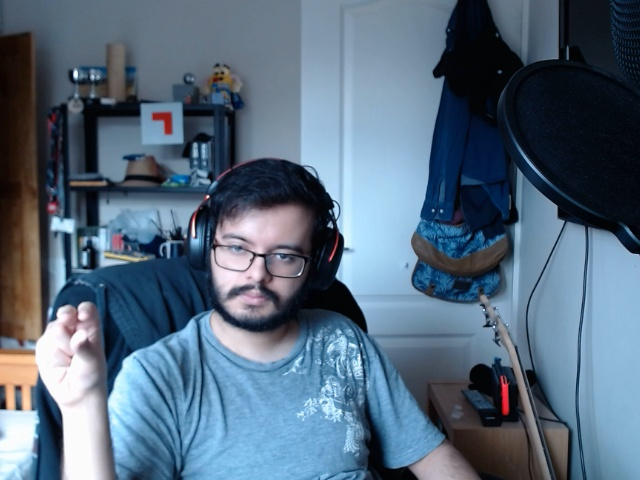No: (30, 286, 120, 417)
